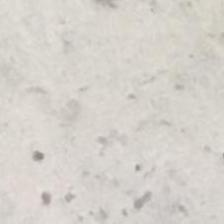Non_Crack: (13, 8, 207, 224)
